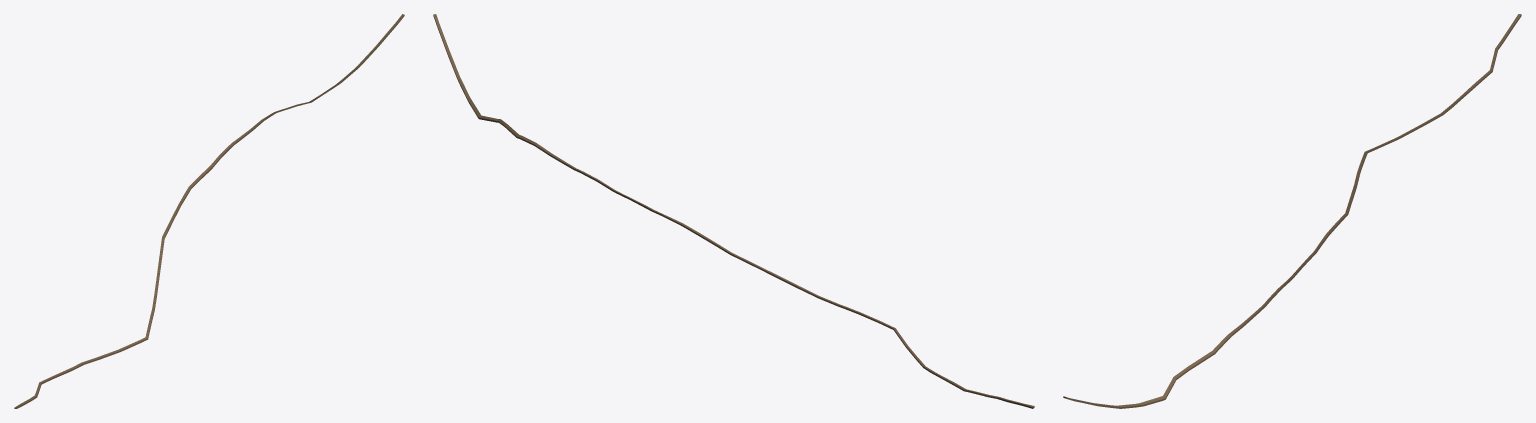
Rendered from 15-27371-14861.6cfbf81d.glb.
3 views of the same model, side by side, from view 1: azimuth 90°, elevation 25°; view 2: azimuth 150°, elevation 25°; view 3: azimuth 270°, elevation 25° (orthographic). The views are drawn at different scales.
Bounding box in the file's own units: 380 × 29.27 × 174.
